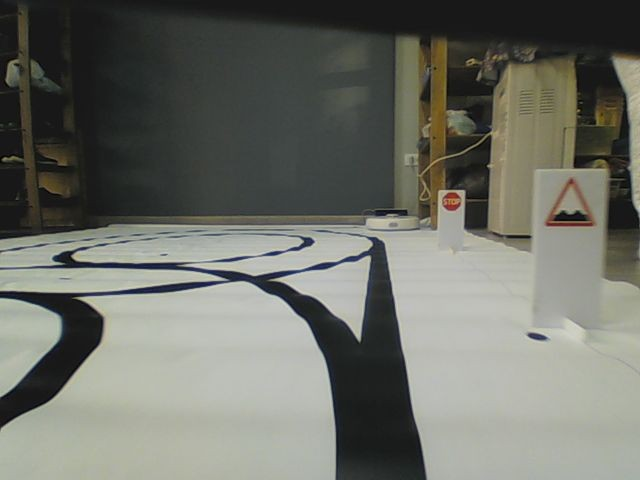Stop: (442, 190, 462, 211)
